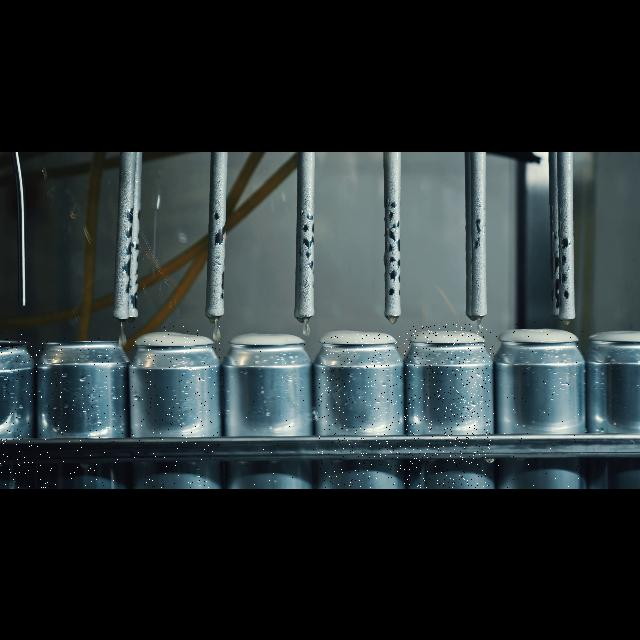empty: (38, 336, 126, 488), (0, 332, 38, 488)
full: (491, 318, 585, 488), (404, 324, 500, 488), (132, 326, 220, 488), (230, 328, 318, 488), (318, 334, 402, 488)
